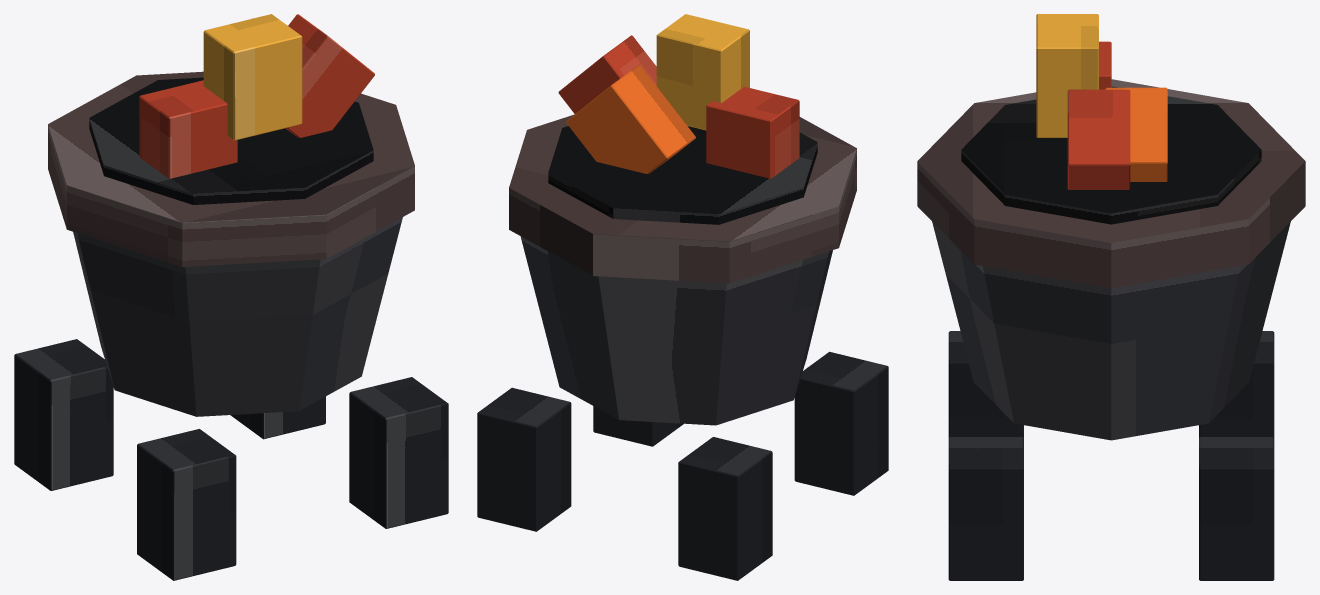
The model's file is ember_brazier.glb.
3 renders of one model, left to right at view 1: azimuth 30°, elevation 25°; view 2: azimuth 150°, elevation 25°; view 3: azimuth 270°, elevation 25°, orthographic. The views are drawn at different scales.
Visible parts, largest first — view 1: BrazierBowl, BrazierRim, CoalBed, BrazierFoot_1, BrazierFoot_2, BrazierFoot_3, Ember_3, Ember_1, Ember_4, BrazierFoot_4; view 2: BrazierBowl, BrazierRim, CoalBed, BrazierFoot_3, BrazierFoot_4, BrazierFoot_1, Ember_2, Ember_3, Ember_1, Ember_4, BrazierFoot_2; view 3: BrazierBowl, BrazierRim, CoalBed, BrazierFoot_2, BrazierFoot_4, Ember_4, Ember_3, BrazierFoot_1, BrazierFoot_3, Ember_2, Ember_1.
Boxes of the visible parts, bbox=[...] form: BrazierBowl: bbox=[73, 217, 402, 416]; BrazierRim: bbox=[48, 71, 414, 266]; CoalBed: bbox=[89, 77, 373, 204]; BrazierFoot_1: bbox=[137, 429, 236, 580]; BrazierFoot_2: bbox=[349, 377, 448, 528]; BrazierFoot_3: bbox=[14, 339, 113, 490]; Ember_3: bbox=[203, 14, 302, 140]; Ember_1: bbox=[139, 80, 237, 178]; Ember_4: bbox=[286, 14, 374, 137]; BrazierFoot_4: bbox=[230, 396, 325, 439]; BrazierBowl: bbox=[520, 236, 832, 425]; BrazierRim: bbox=[509, 114, 856, 283]; CoalBed: bbox=[548, 126, 817, 224]; BrazierFoot_3: bbox=[678, 437, 772, 580]; BrazierFoot_4: bbox=[477, 387, 571, 531]; BrazierFoot_1: bbox=[794, 351, 888, 495]; Ember_2: bbox=[566, 65, 695, 173]; Ember_3: bbox=[656, 14, 749, 130]; Ember_1: bbox=[706, 86, 799, 178]; Ember_4: bbox=[558, 35, 656, 113]; BrazierFoot_2: bbox=[593, 406, 683, 446]; BrazierBowl: bbox=[932, 221, 1290, 440]; BrazierRim: bbox=[917, 79, 1305, 288]; CoalBed: bbox=[961, 86, 1261, 224]; BrazierFoot_2: bbox=[948, 437, 1023, 580]; BrazierFoot_4: bbox=[1199, 437, 1274, 580]; Ember_4: bbox=[1067, 89, 1130, 189]; Ember_3: bbox=[1036, 14, 1098, 137]; BrazierFoot_1: bbox=[948, 331, 1023, 437]; BrazierFoot_3: bbox=[1199, 331, 1274, 437]; Ember_2: bbox=[1105, 87, 1167, 181]; Ember_1: bbox=[1099, 41, 1111, 89].
Bounding box in the file's own units: 0.62 × 0.85 × 0.62.
1 material, 1 textured.
